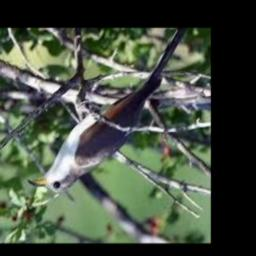Cuckoo: (27, 29, 187, 193)
